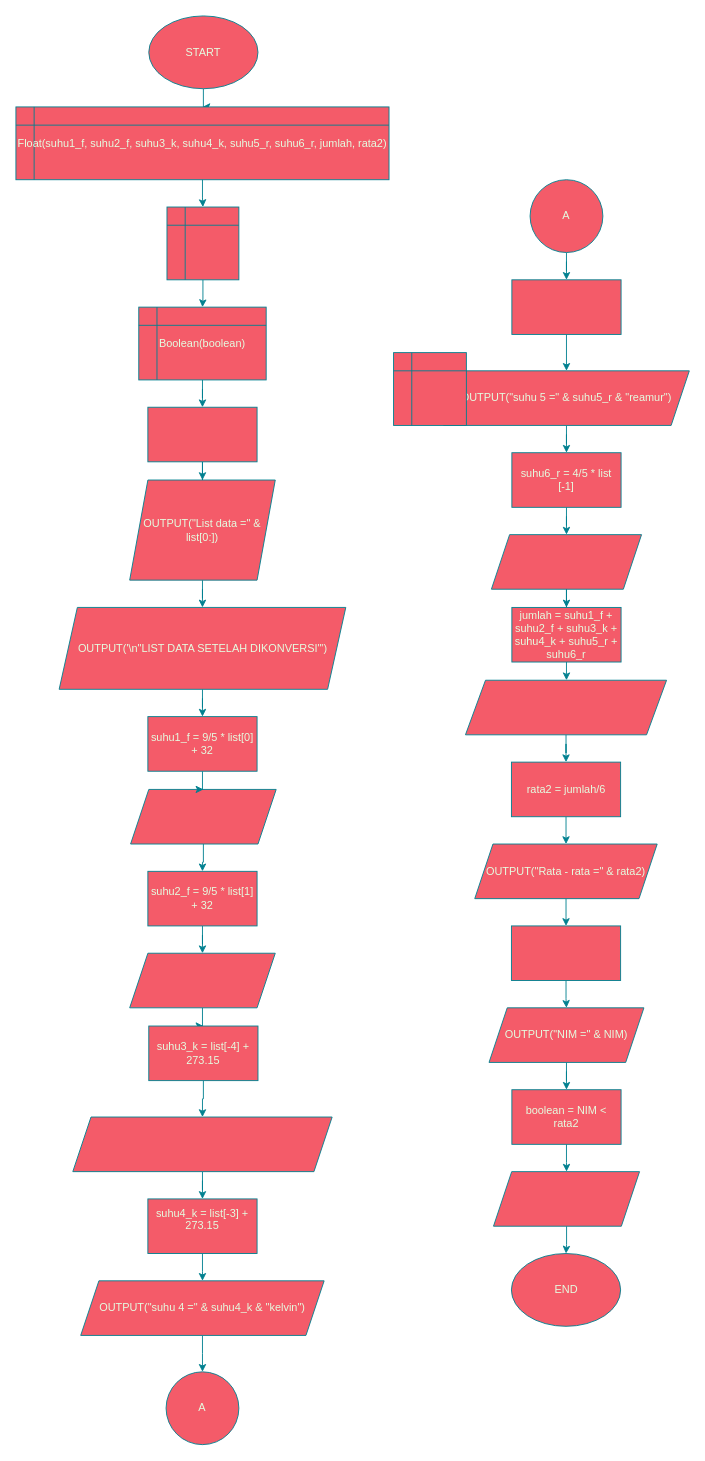
This 705x1461 diagram has some shape labels left out. The centre of each missing label's shape, as x and y in pixels:
Integer(list, NIM): (x=202, y=243)
list = [27, 33, 46, 55, 67, 92]: (x=202, y=434)
NIM = 67: (x=566, y=953)
OUTPUT("\nJumlah =" & jumlah): (x=566, y=707)
OUTPUT("Boolean =" & boolean): (x=566, y=1198)
OUTPUT("suhu 1 =" & suhu1_f & "fahrenheit"): (x=203, y=816)
OUTPUT("suhu 2 =" & suhu2_f & "fahrenheit"): (x=202, y=980)
OUTPUT("suhu 3 =" & suhu3_k & "kelvin"): (x=202, y=1144)
OUTPUT("suhu 6 =" & suhu6_r & "reamur"): (x=566, y=561)
suhu5_r = 4/5 * list [-2]: (x=566, y=306)
